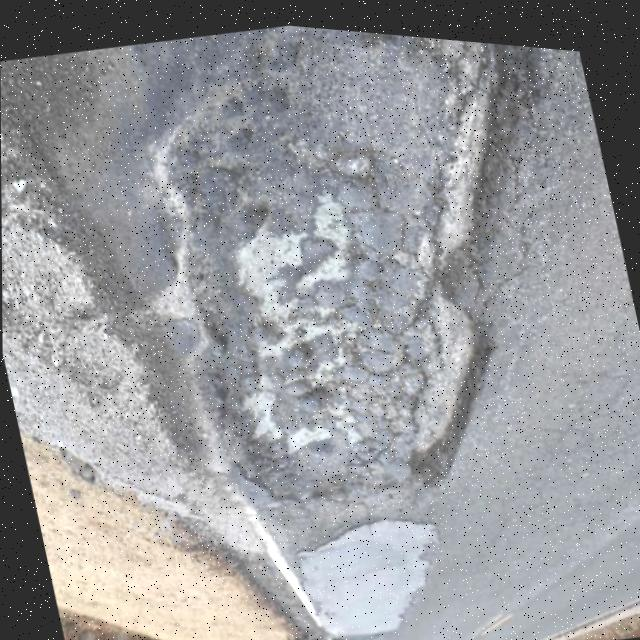Pothole: (189, 151, 482, 532)
